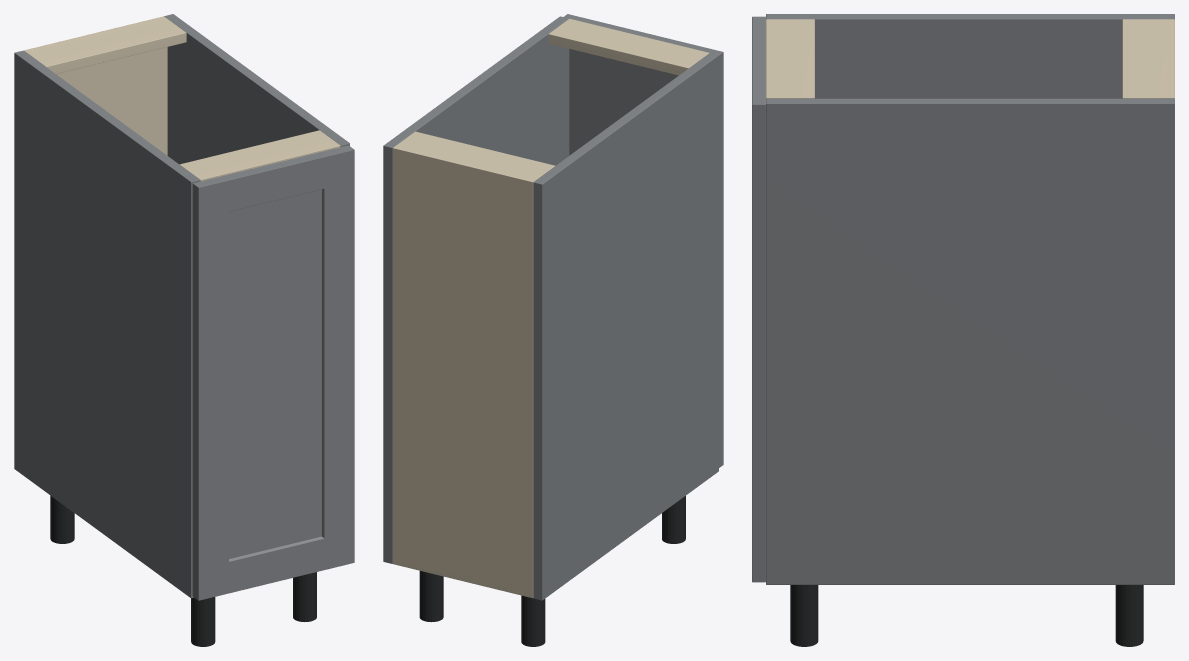
Rendered from oppein-ply-gss-bsr12.glb.
The picture shows the model from 3 angles, left to right: view 1: azimuth 30°, elevation 25°; view 2: azimuth 150°, elevation 25°; view 3: azimuth 270°, elevation 25°; orthographic projection. The views are drawn at different scales.
Parts seen in each view (by area): view 1: Cabinet side, Door, Cabinet side.001, Cabinet back, Top support rail, Top support rail.001, Adjustable foot.001, Adjustable foot.003, Adjustable foot; view 2: Cabinet side, Cabinet back, Cabinet side.001, Door, Top support rail.001, Top support rail, Adjustable foot, Adjustable foot.002, Adjustable foot.001, Cabinet bottom; view 3: Cabinet side.001, Cabinet side, Door, Top support rail.001, Top support rail, Adjustable foot.002, Adjustable foot.003, Cabinet back.
Boxes of the visible parts, bbox=[...] form: Cabinet side: bbox=[14, 50, 200, 598]; Door: bbox=[192, 145, 354, 600]; Cabinet side.001: bbox=[164, 14, 349, 164]; Cabinet back: bbox=[24, 16, 167, 155]; Top support rail: bbox=[25, 18, 186, 73]; Top support rail.001: bbox=[179, 130, 340, 181]; Adjustable foot.001: bbox=[191, 597, 215, 646]; Adjustable foot.003: bbox=[293, 572, 316, 621]; Adjustable foot: bbox=[50, 495, 74, 543]; Cabinet side: bbox=[533, 53, 718, 600]; Cabinet back: bbox=[393, 145, 535, 598]; Cabinet side.001: bbox=[383, 16, 569, 563]; Door: bbox=[563, 14, 723, 467]; Top support rail.001: bbox=[548, 18, 709, 75]; Top support rail: bbox=[396, 131, 554, 179]; Adjustable foot: bbox=[521, 595, 545, 646]; Adjustable foot.002: bbox=[419, 571, 443, 622]; Adjustable foot.001: bbox=[662, 496, 685, 543]; Cabinet bottom: bbox=[393, 562, 533, 597]; Cabinet side.001: bbox=[766, 98, 1174, 584]; Cabinet side: bbox=[766, 14, 1174, 98]; Door: bbox=[752, 16, 765, 582]; Top support rail.001: bbox=[766, 19, 814, 98]; Top support rail: bbox=[1122, 19, 1166, 98]; Adjustable foot.002: bbox=[1115, 585, 1143, 646]; Adjustable foot.003: bbox=[790, 585, 818, 646]; Cabinet back: bbox=[1167, 19, 1174, 98].
Size of the model in its own units: 0.3048 by 0.8763 by 0.6064.
